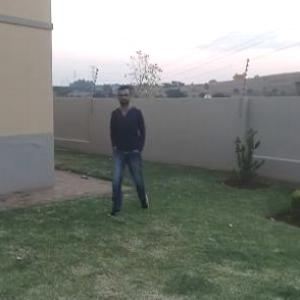follow: (105, 85, 146, 204)
